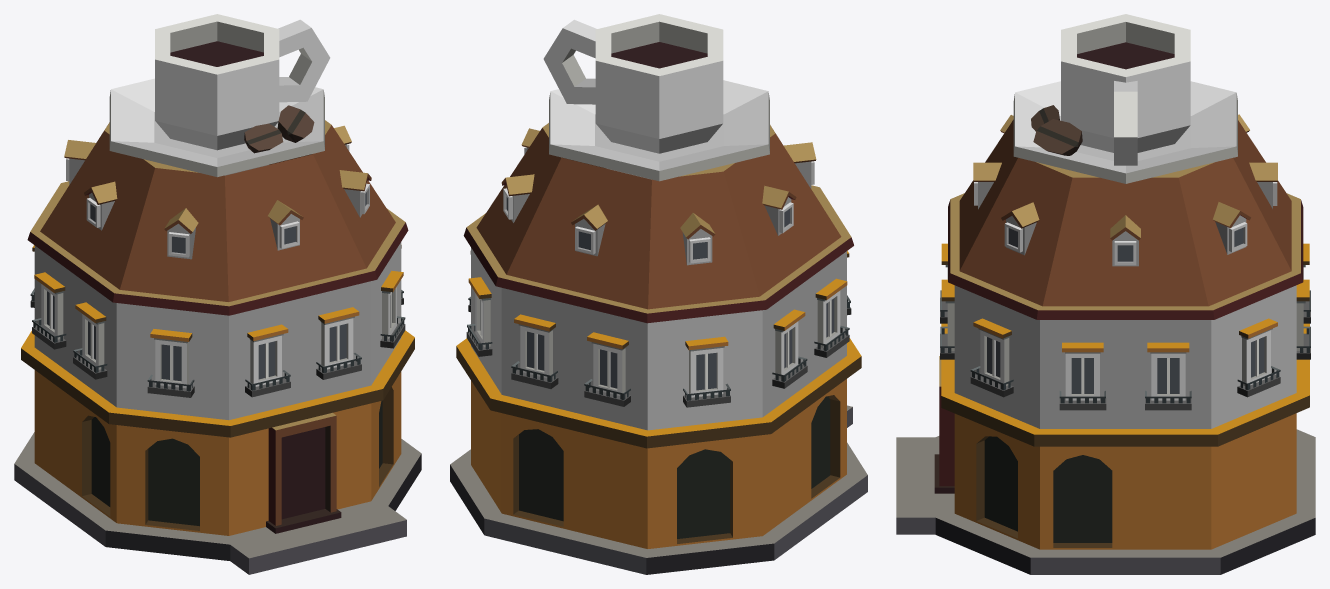
File: TB_CITY_Uniq_Cafe.FBX
3 views of the same model, side by side, from view 1: azimuth 30°, elevation 25°; view 2: azimuth 150°, elevation 25°; view 3: azimuth 270°, elevation 25° (orthographic). The views are drawn at different scales.
Parts seen in each view (by area): view 1: TB_CITY_Uniq_Cafe; view 2: TB_CITY_Uniq_Cafe; view 3: TB_CITY_Uniq_Cafe.
Boxes of the visible parts, <box> form: TB_CITY_Uniq_Cafe: <box>14,14,421,574</box>; TB_CITY_Uniq_Cafe: <box>450,14,867,574</box>; TB_CITY_Uniq_Cafe: <box>896,14,1315,574</box>.
Bounding box in the file's own units: 15.98 × 20.81 × 17.63.
